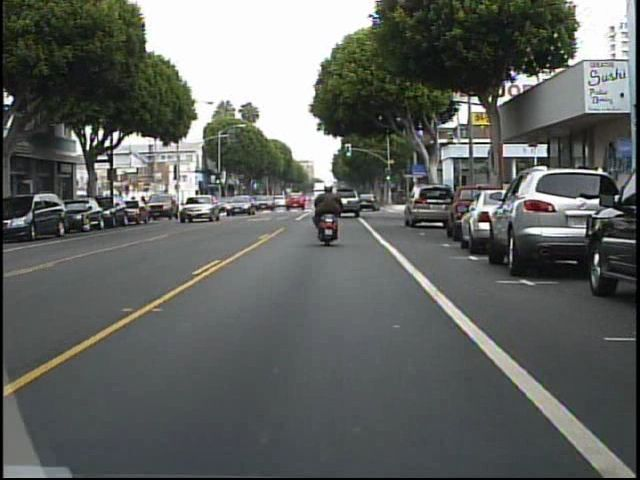car: (490, 158, 606, 286), (1, 190, 69, 240), (405, 183, 455, 227), (179, 191, 219, 224), (66, 198, 103, 232), (225, 194, 256, 218), (150, 195, 178, 221), (102, 200, 127, 228), (126, 201, 147, 224), (342, 189, 360, 215), (285, 189, 305, 211), (357, 194, 379, 211), (257, 193, 272, 211)
